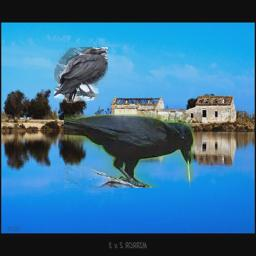Crow: (64, 114, 194, 188), (54, 47, 108, 103)
